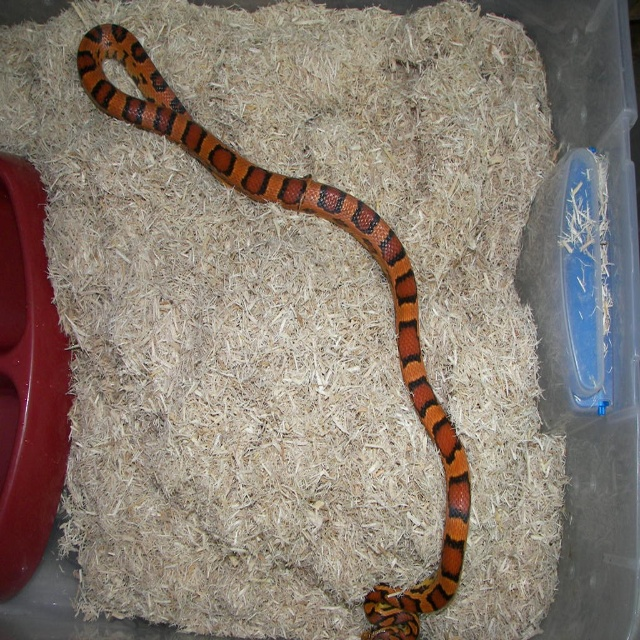Snake: (74, 21, 470, 639)
